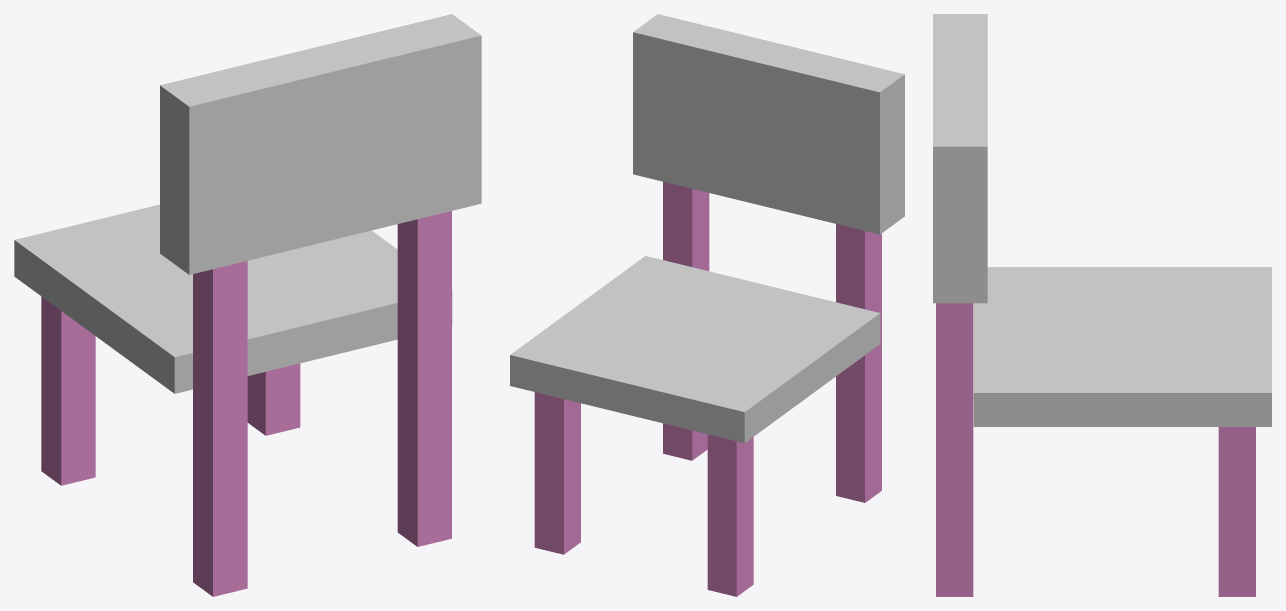
File: chair parts.fbx
The picture shows the model from 3 angles, left to right: view 1: azimuth 30°, elevation 25°; view 2: azimuth 150°, elevation 25°; view 3: azimuth 270°, elevation 25°; orthographic projection. The views are drawn at different scales.
Visible parts, largest first — view 1: Cube_3, Cube_2, Cube_4, Cube_5, Cube_1, Cube; view 2: Cube_3, Cube_2, Cube_4, Cube_1, Cube, Cube_5; view 3: Cube_2, Cube_3, Cube_5, Cube.
Part boxes in pixels (box(x1,y1,x2,y2)): Cube_3: box(160, 14, 481, 274); Cube_2: box(14, 204, 452, 393); Cube_4: box(193, 261, 247, 596); Cube_5: box(397, 211, 451, 546); Cube_1: box(41, 296, 95, 485); Cube: box(247, 363, 300, 435); Cube_3: box(633, 14, 904, 234); Cube_2: box(510, 256, 880, 443); Cube_4: box(836, 224, 881, 502); Cube_1: box(707, 434, 753, 596); Cube: box(534, 392, 580, 554); Cube_5: box(663, 181, 709, 460); Cube_2: box(973, 267, 1271, 426); Cube_3: box(933, 14, 987, 303); Cube_5: box(936, 303, 973, 596); Cube: box(1218, 427, 1255, 596).
Bounding box in the file's own units: 100 × 163 × 108.
